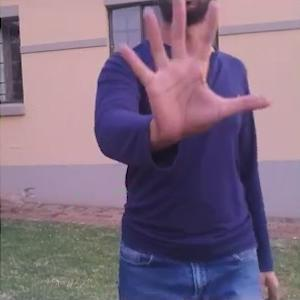follow_hand: (109, 0, 272, 147)
